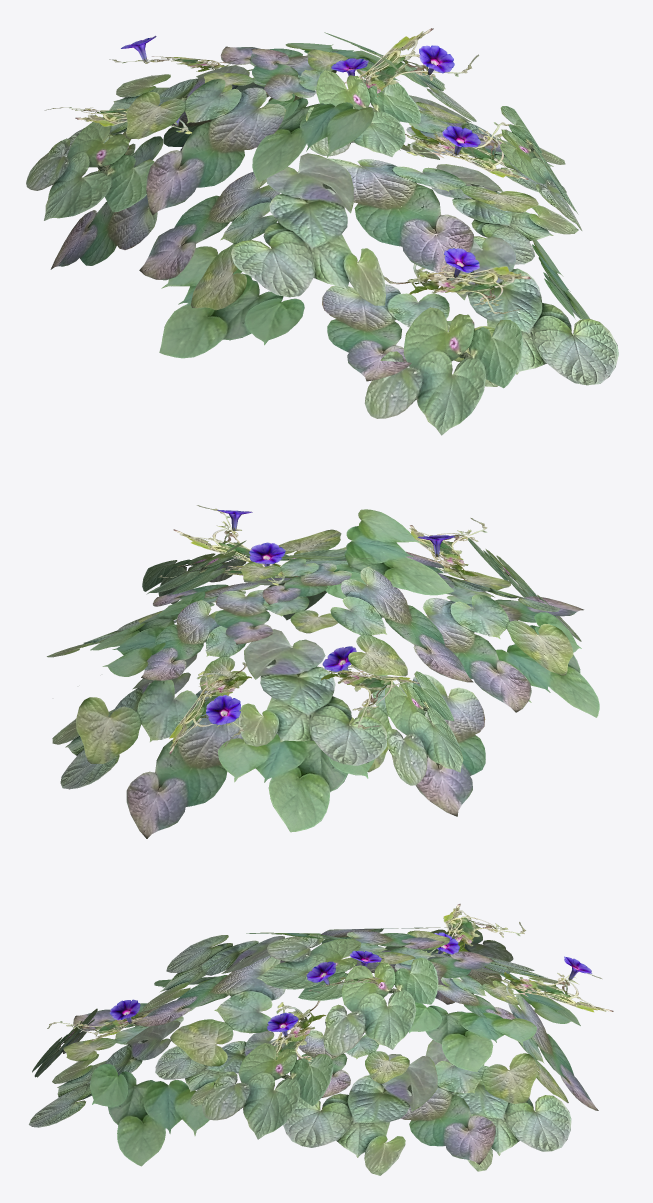
The model's file is MorningGlory1B.fbx.
The picture shows the model from 3 angles, top to bottom: view 1: azimuth 30°, elevation 25°; view 2: azimuth 150°, elevation 25°; view 3: azimuth 270°, elevation 25°; orthographic projection. The views are drawn at different scales.
Visible parts, largest first — view 1: MorningGlory1B_LOD0; view 2: MorningGlory1B_LOD0; view 3: MorningGlory1B_LOD0.
Boxes of the visible parts, <box> form: MorningGlory1B_LOD0: <box>26,28,618,435</box>; MorningGlory1B_LOD0: <box>47,505,599,838</box>; MorningGlory1B_LOD0: <box>29,903,613,1175</box>.
Size of the model in its own units: 131 by 59.28 by 166.
